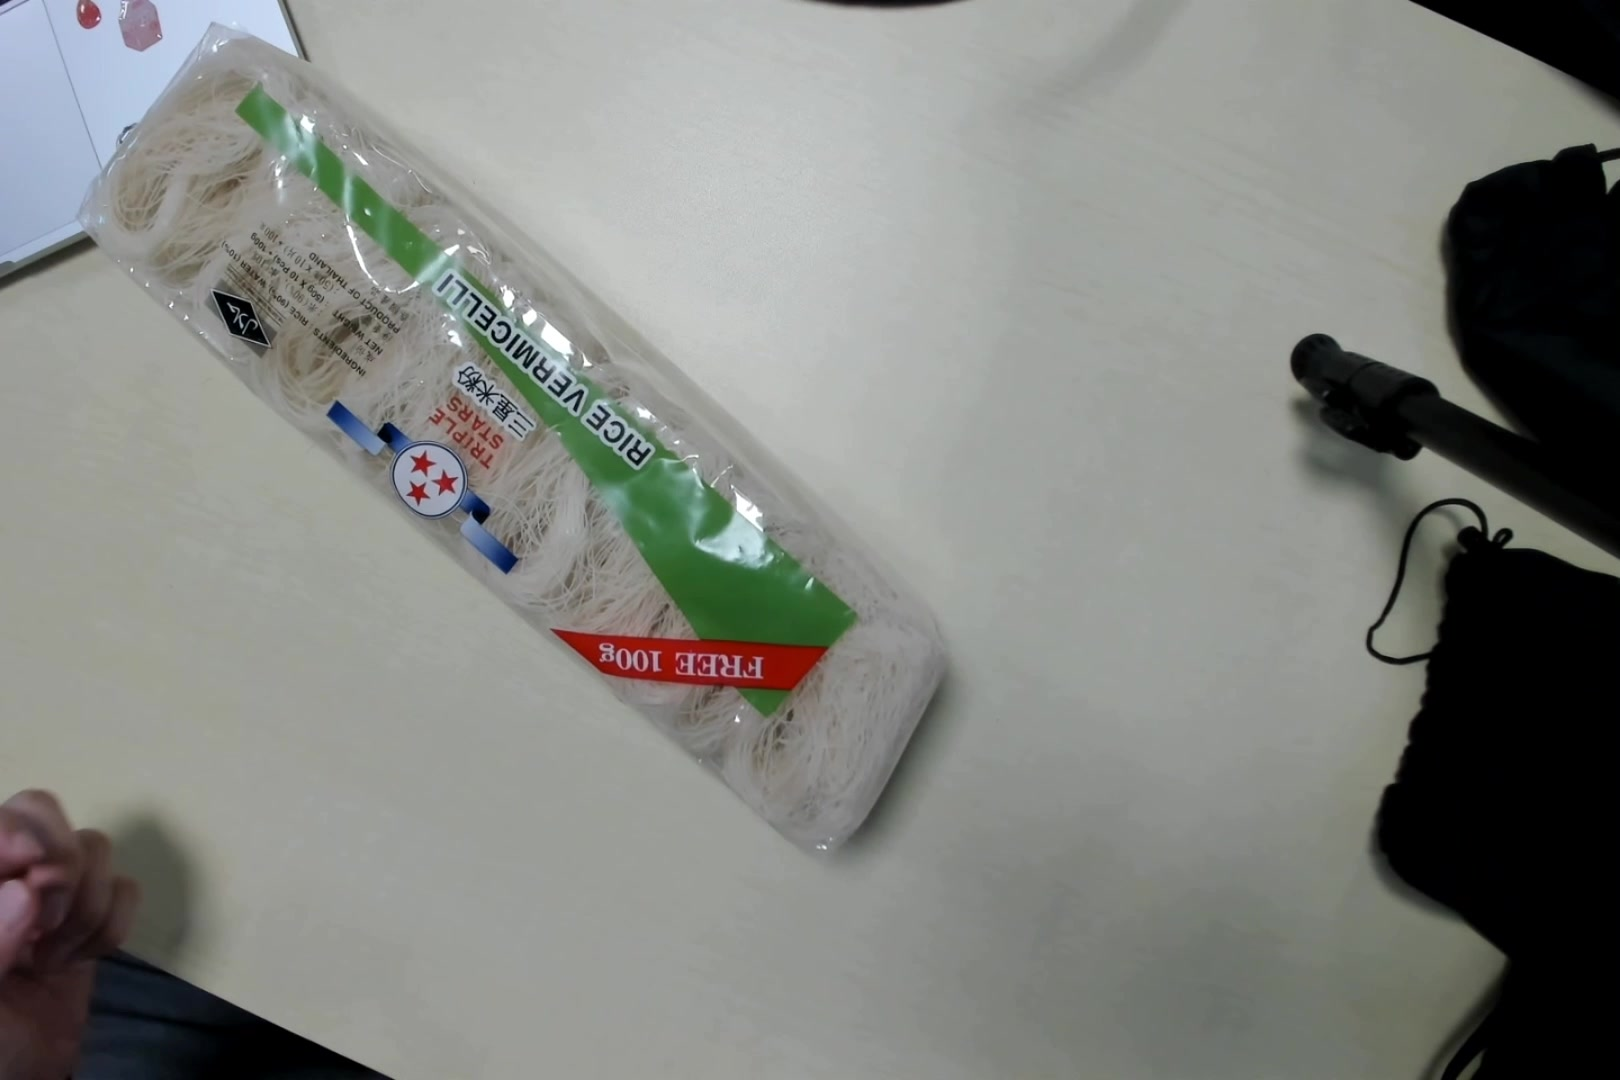d: (102, 39, 959, 863)
